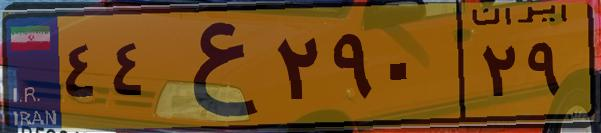0: (385, 28, 445, 110)
2: (270, 28, 330, 110), (475, 38, 525, 113)
4: (57, 26, 110, 100), (110, 28, 158, 98)
9: (330, 28, 385, 110), (525, 38, 570, 115)
ع: (158, 12, 270, 120)
